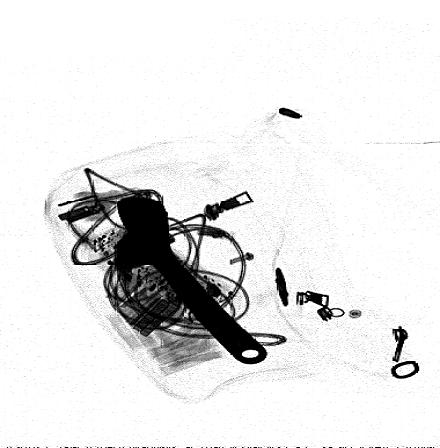Wrench: (111, 194, 268, 367)
